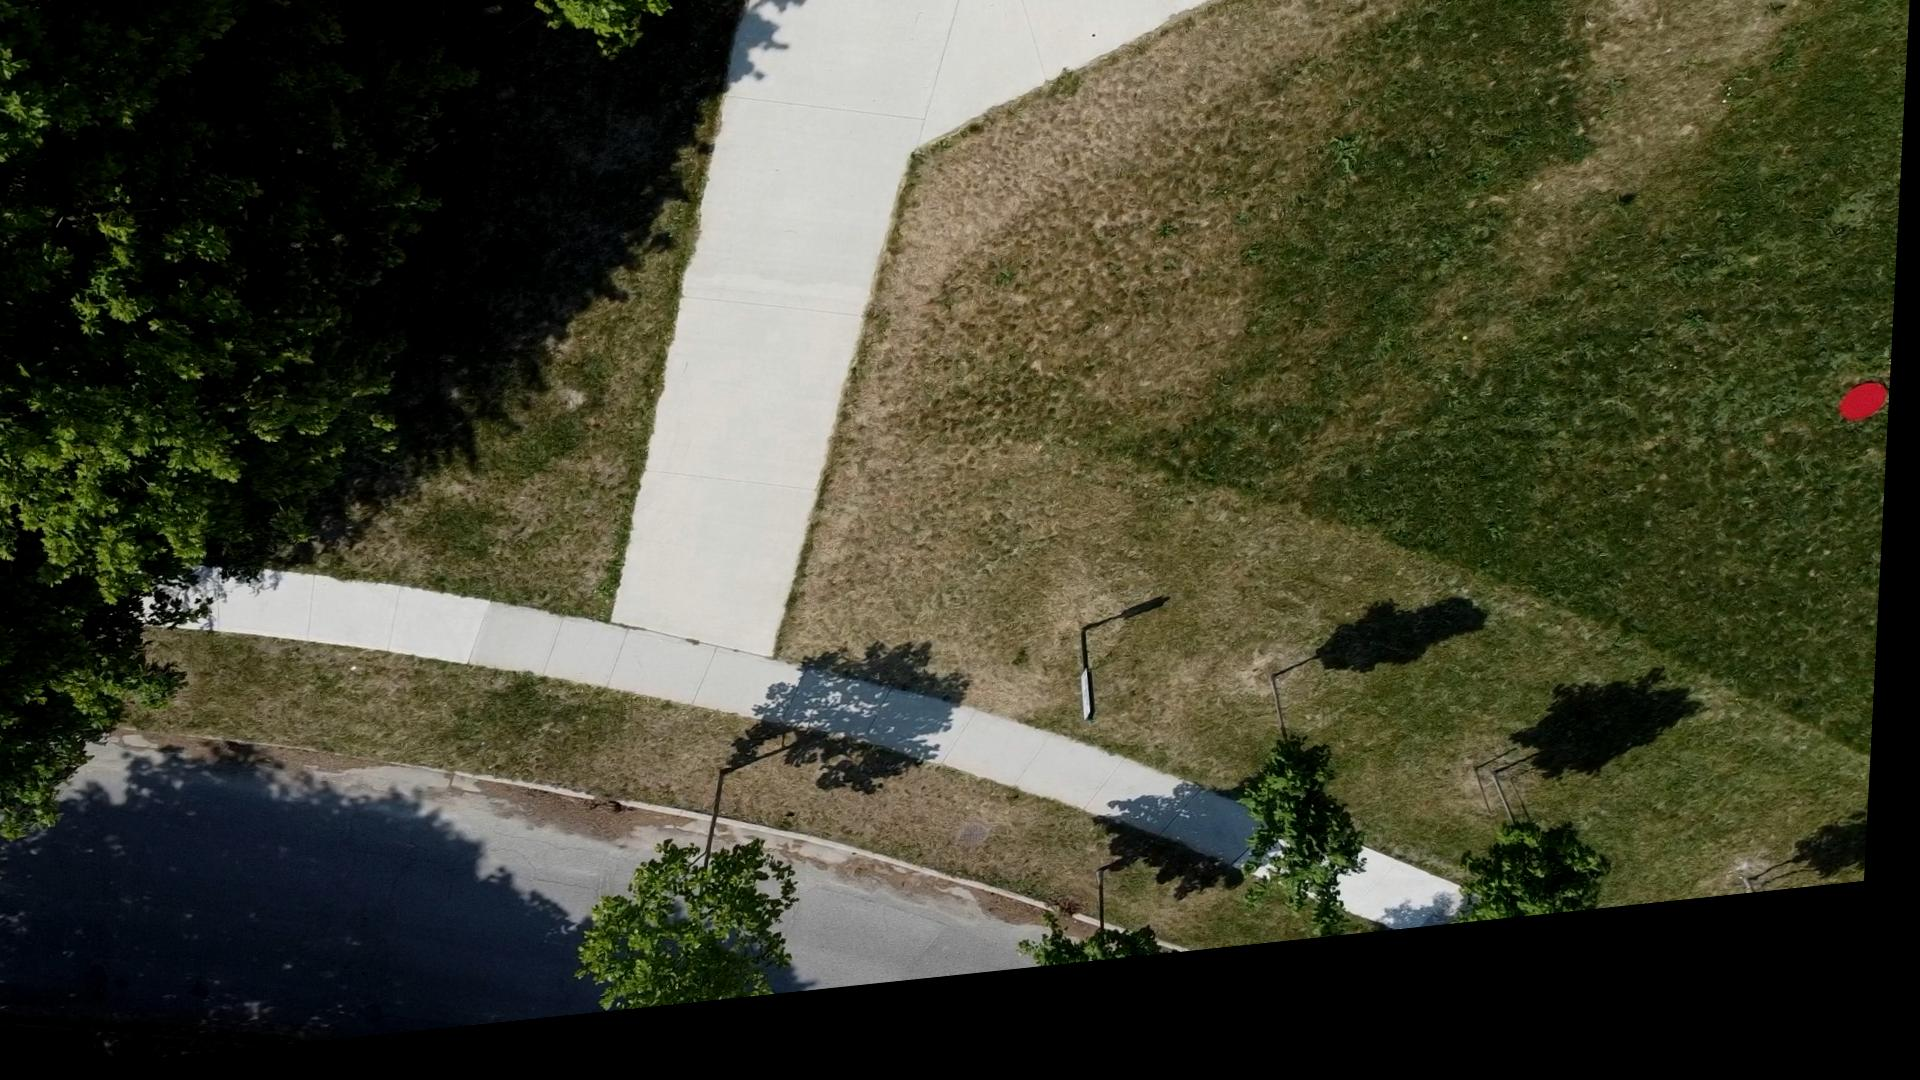Red: (1844, 421, 1895, 464)
